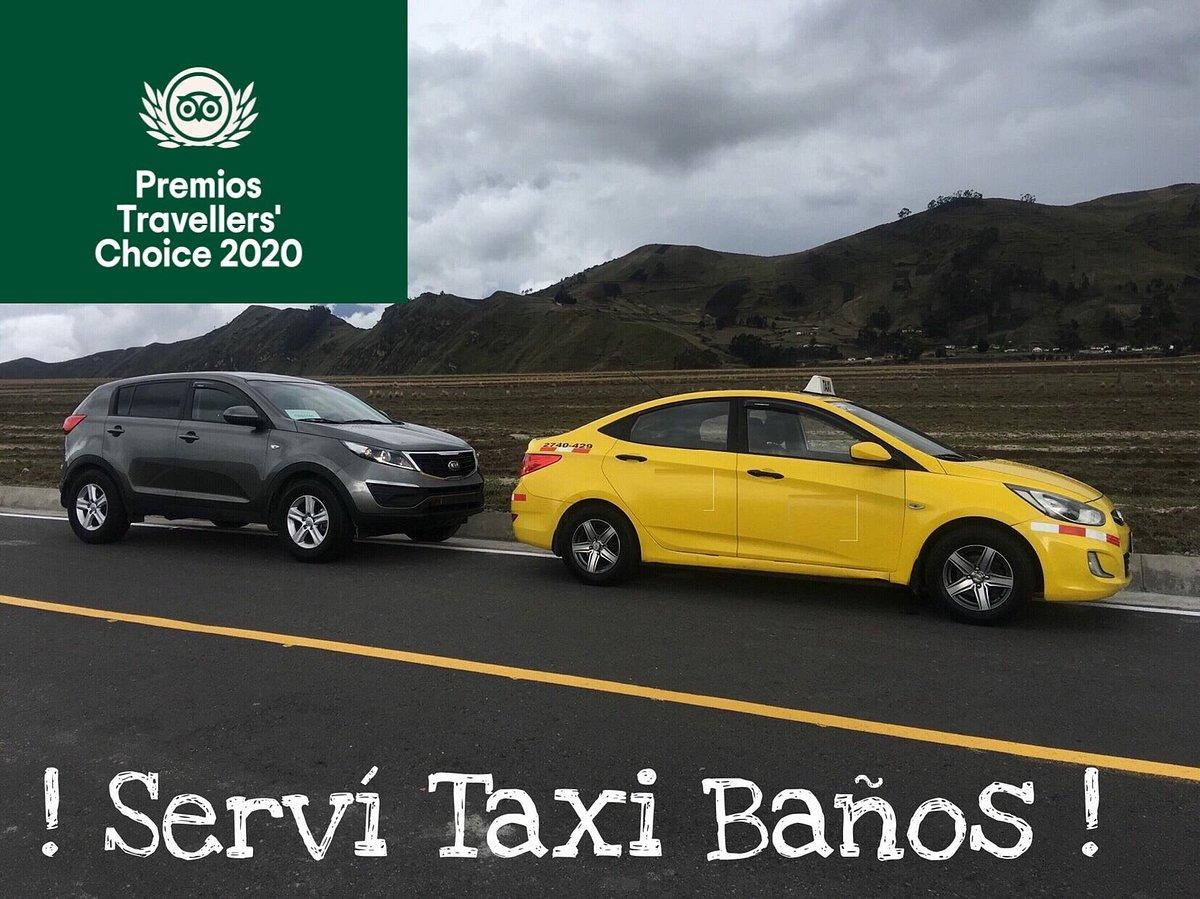taxi: (504, 341, 1200, 652)
